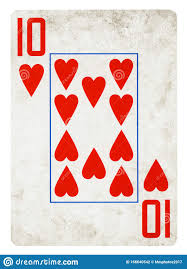ten of hearts: (10, 12, 178, 244)
